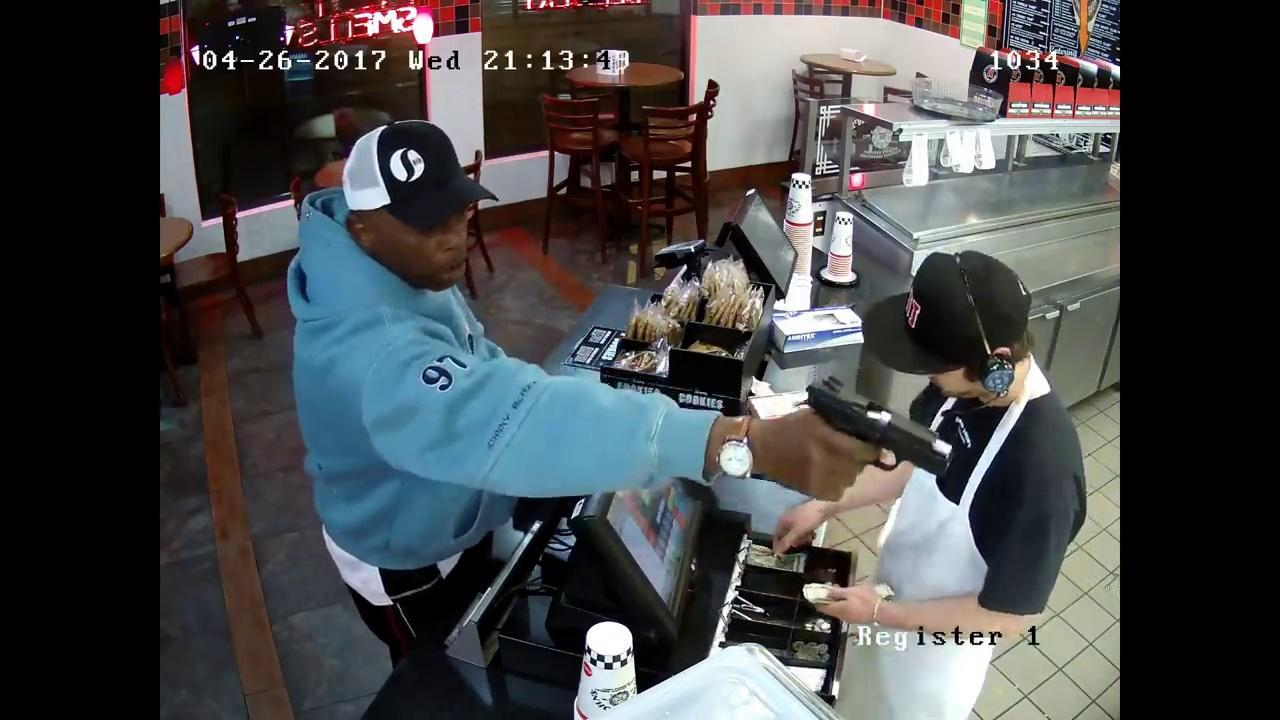Guns: (782, 356, 979, 500)
